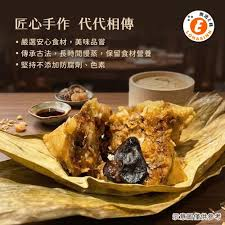zongzi: (40, 98, 198, 193)
